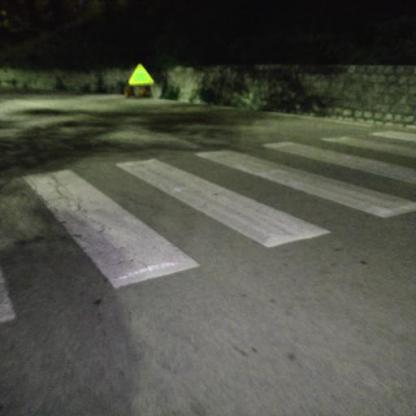crosswalk: (111, 141, 415, 268)
